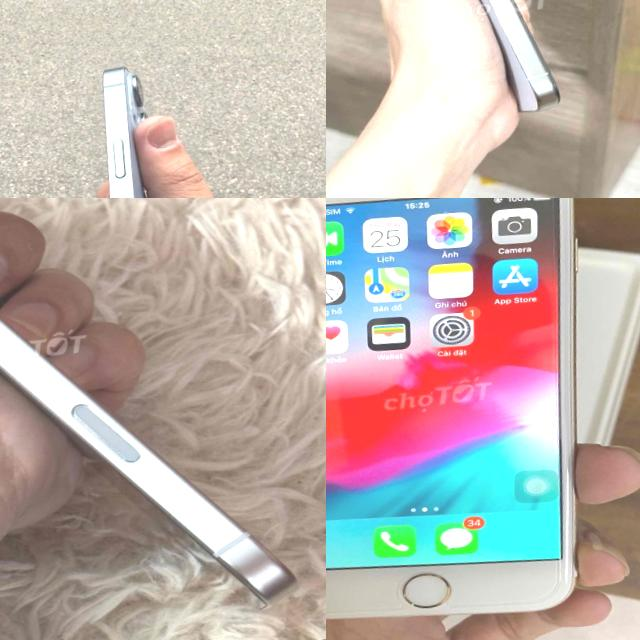gen_14: (70, 53, 218, 198)
gen_15: (373, 0, 572, 133)
gen_16: (0, 198, 310, 640)
gen_6: (326, 198, 630, 640)
